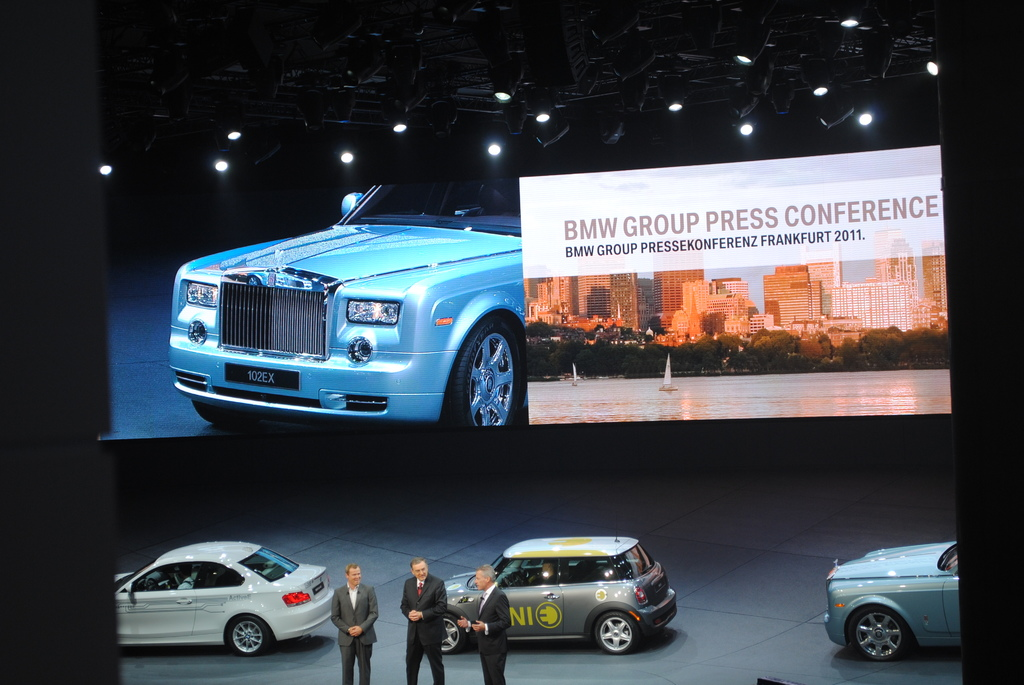Car: (165, 182, 526, 427), (442, 513, 677, 657), (118, 543, 336, 660), (822, 540, 960, 662)
